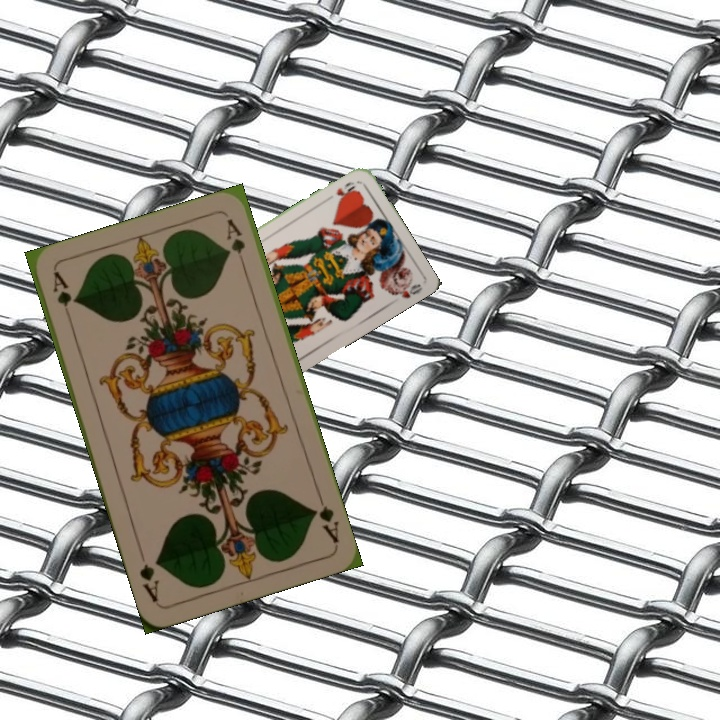GA: (308, 489, 342, 546), (49, 268, 76, 326)
HO: (332, 177, 359, 204)
